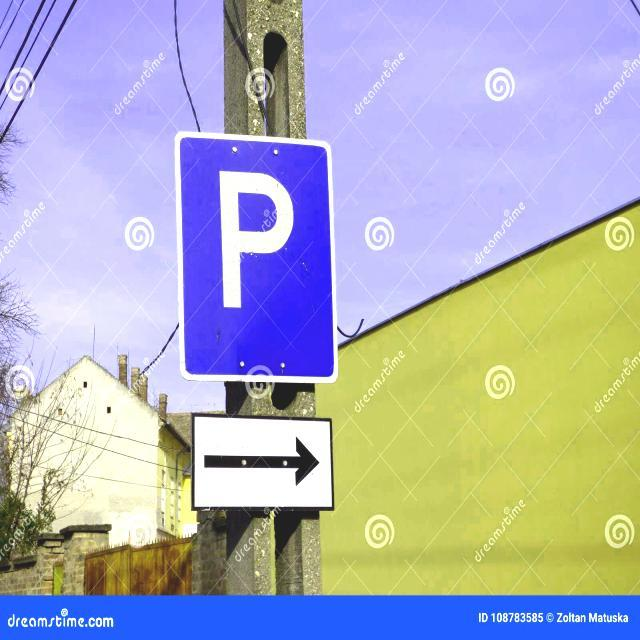Traffic sign: (166, 123, 348, 518)
